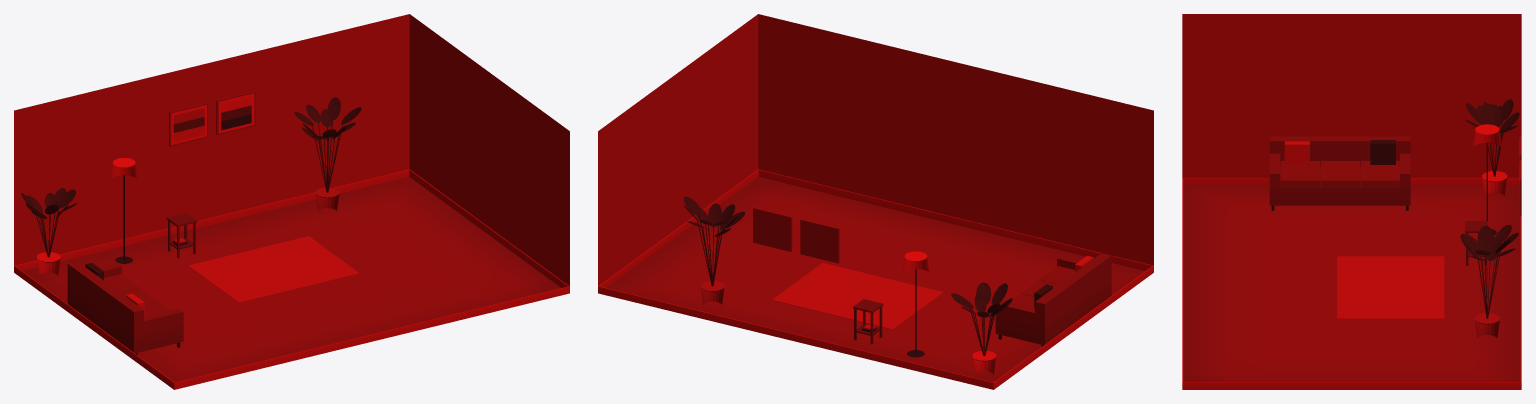
File: room_living.glb
3 views of the same model, side by side, from view 1: azimuth 30°, elevation 25°; view 2: azimuth 150°, elevation 25°; view 3: azimuth 270°, elevation 25° (orthographic). The views are drawn at different scales.
Visible parts, largest first — view 1: Shell, CenterSofa, CenterRug, RightPlant, CenterPlantCorner, CenterArtL, CenterArtR, LeftTable, LeftLamp; view 2: Shell, CenterSofa, CenterRug, RightPlant, CenterPlantCorner, CenterArtL, CenterArtR, LeftTable, LeftLamp; view 3: Shell, CenterSofa, CenterRug, RightPlant, CenterPlantCorner, LeftLamp, LeftTable.
Boxes of the visible parts, bbox=[...] form: Shell: bbox=[14, 14, 569, 389]; CenterSofa: bbox=[67, 261, 183, 354]; CenterRug: bbox=[188, 236, 359, 302]; RightPlant: bbox=[294, 97, 361, 210]; CenterPlantCorner: bbox=[21, 188, 77, 276]; CenterArtL: bbox=[169, 102, 208, 146]; CenterArtR: bbox=[216, 91, 255, 135]; LeftTable: bbox=[166, 213, 197, 258]; LeftLamp: bbox=[110, 158, 137, 263]; Shell: bbox=[598, 14, 1153, 389]; CenterSofa: bbox=[995, 253, 1111, 346]; CenterRug: bbox=[772, 263, 943, 329]; RightPlant: bbox=[683, 196, 745, 305]; CenterPlantCorner: bbox=[951, 282, 1012, 375]; CenterArtL: bbox=[800, 219, 839, 263]; CenterArtR: bbox=[753, 207, 792, 251]; LeftTable: bbox=[853, 299, 883, 344]; LeftLamp: bbox=[902, 251, 929, 357]; Shell: bbox=[1182, 14, 1521, 389]; CenterSofa: bbox=[1269, 136, 1410, 210]; CenterRug: bbox=[1337, 256, 1444, 318]; RightPlant: bbox=[1460, 225, 1518, 337]; CenterPlantCorner: bbox=[1465, 99, 1519, 195]; LeftLamp: bbox=[1472, 124, 1501, 235]; LeftTable: bbox=[1465, 221, 1487, 265].
Size of the model in its own units: 724 by 282 by 505.
